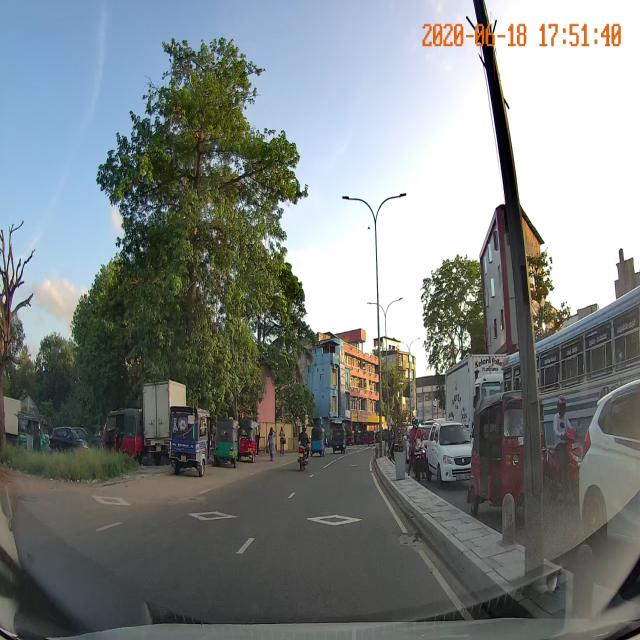diamond: (226, 505, 419, 562)
